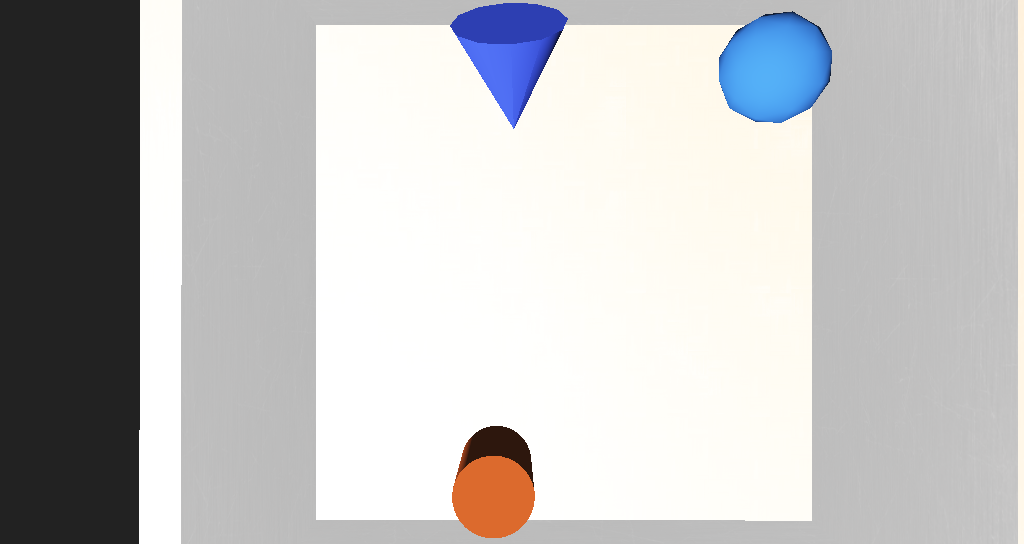cone: (441, 334, 488, 372)
cylinder: (435, 148, 509, 224)
sphere: (593, 165, 660, 208)
